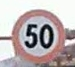limite 50: (11, 9, 65, 61)
